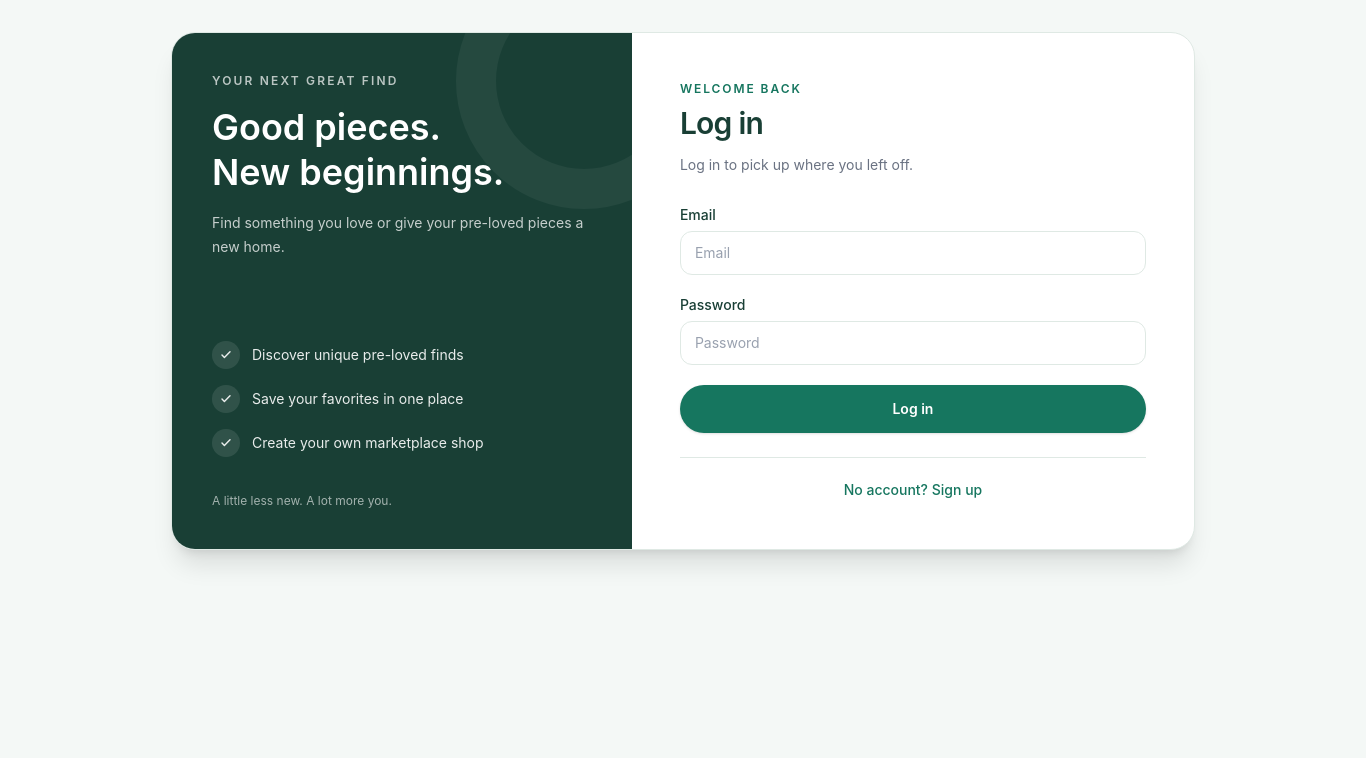
Test: frontend account and failure flows › keeps sign-up details when a username is already taken
This screenshot has width=1366, height=758.
Click the button "No account? Sign up".
click(913, 479)  # box x1=680 y1=457 x2=1146 y2=501
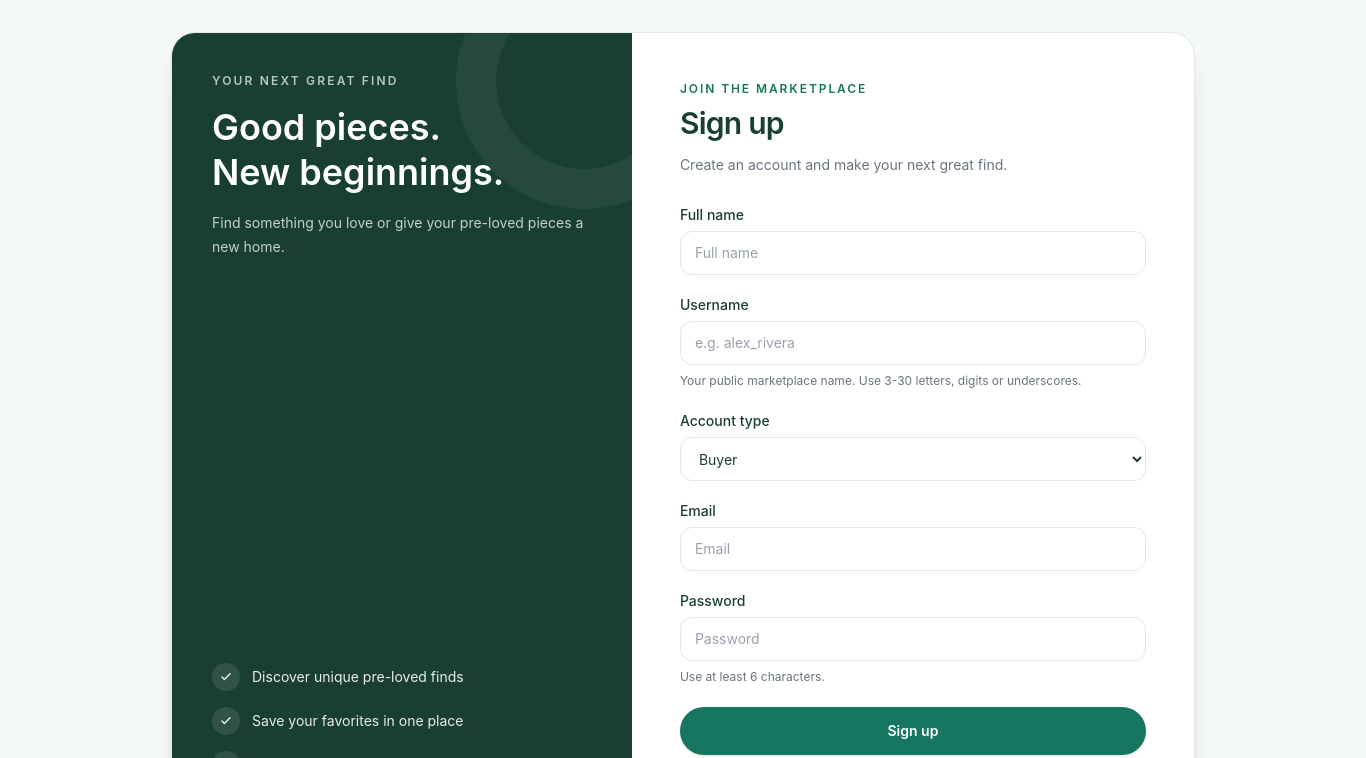
Type "Alex Rivera" into the field labelled "Full name".
click(913, 253); type("Alex Rivera")  # box x1=680 y1=231 x2=1146 y2=275
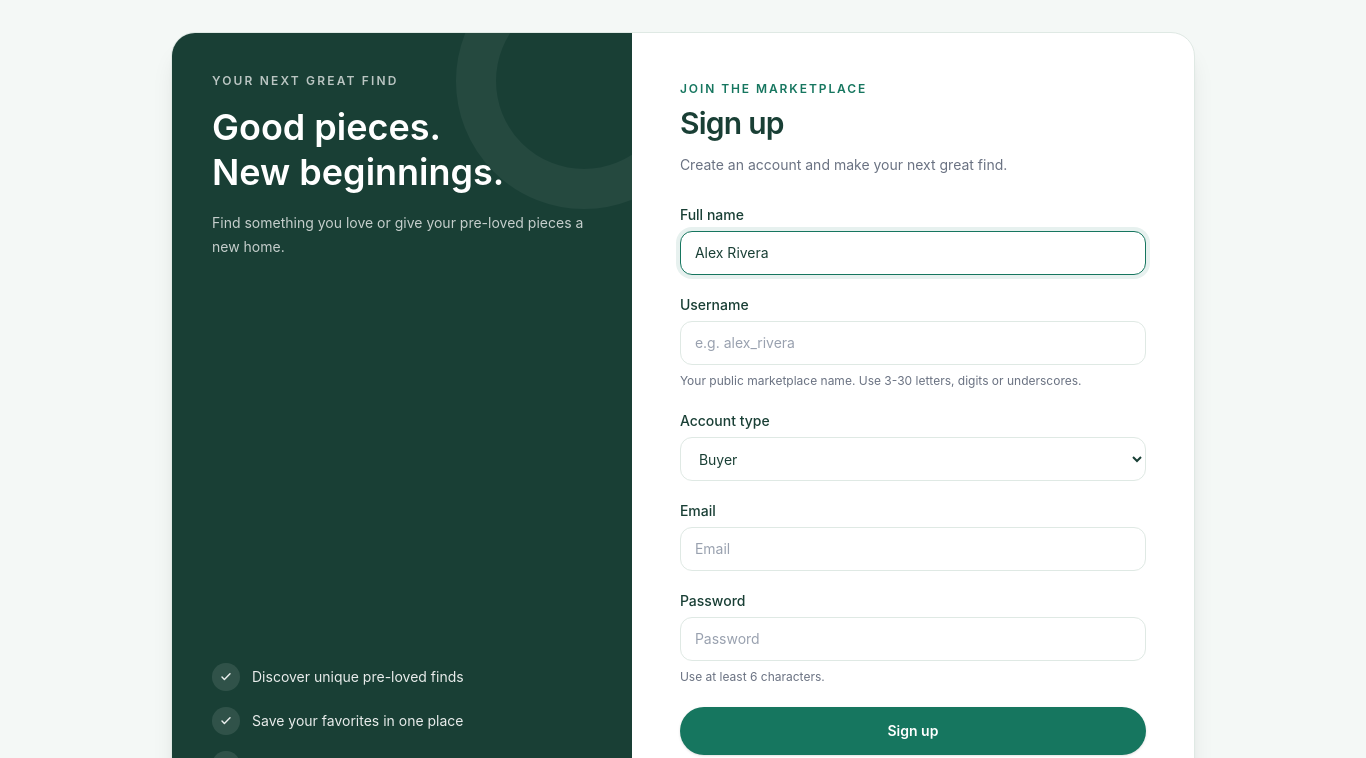
Type "taken" into the field labelled "Username".
click(913, 343); type("taken")  # box x1=680 y1=321 x2=1146 y2=365
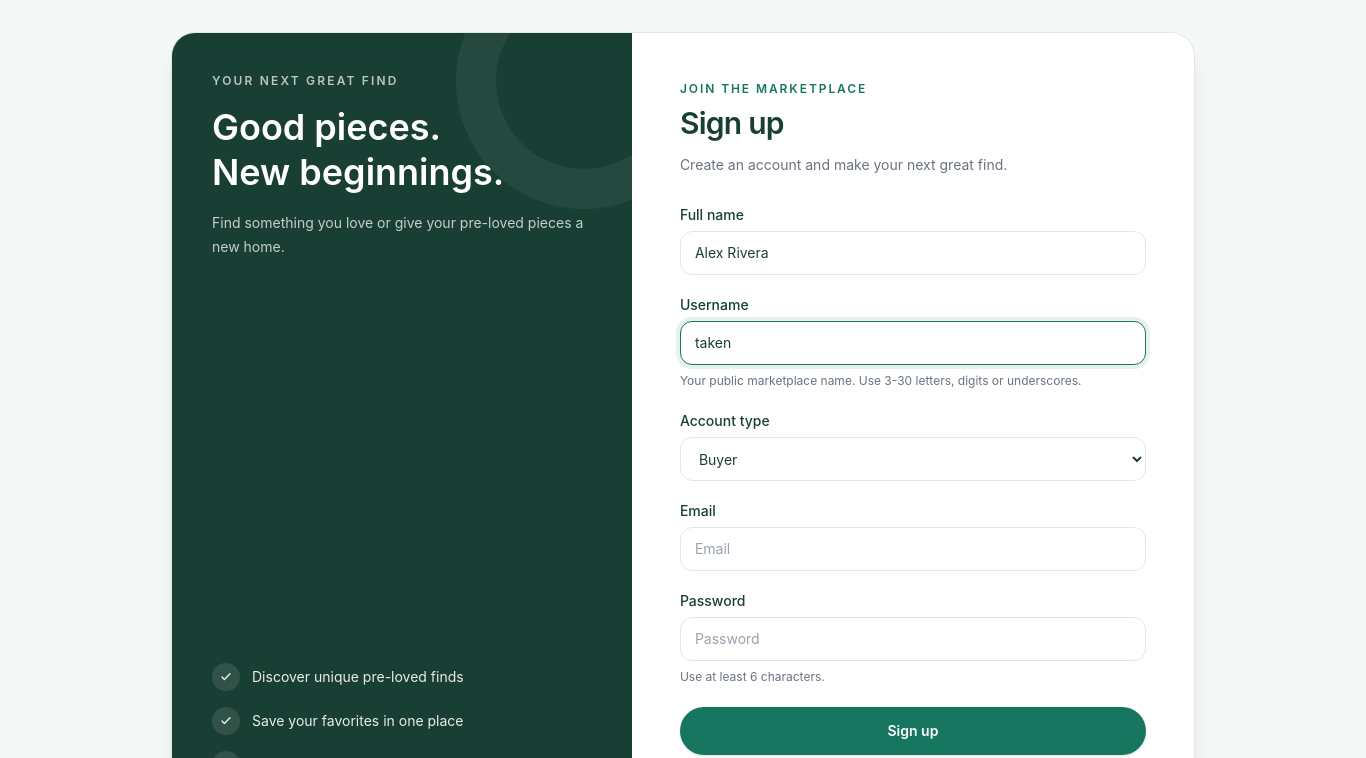
Type "alex@example.test" into the field labelled "Email".
click(913, 549); type("alex@example.test")  # box x1=680 y1=527 x2=1146 y2=571
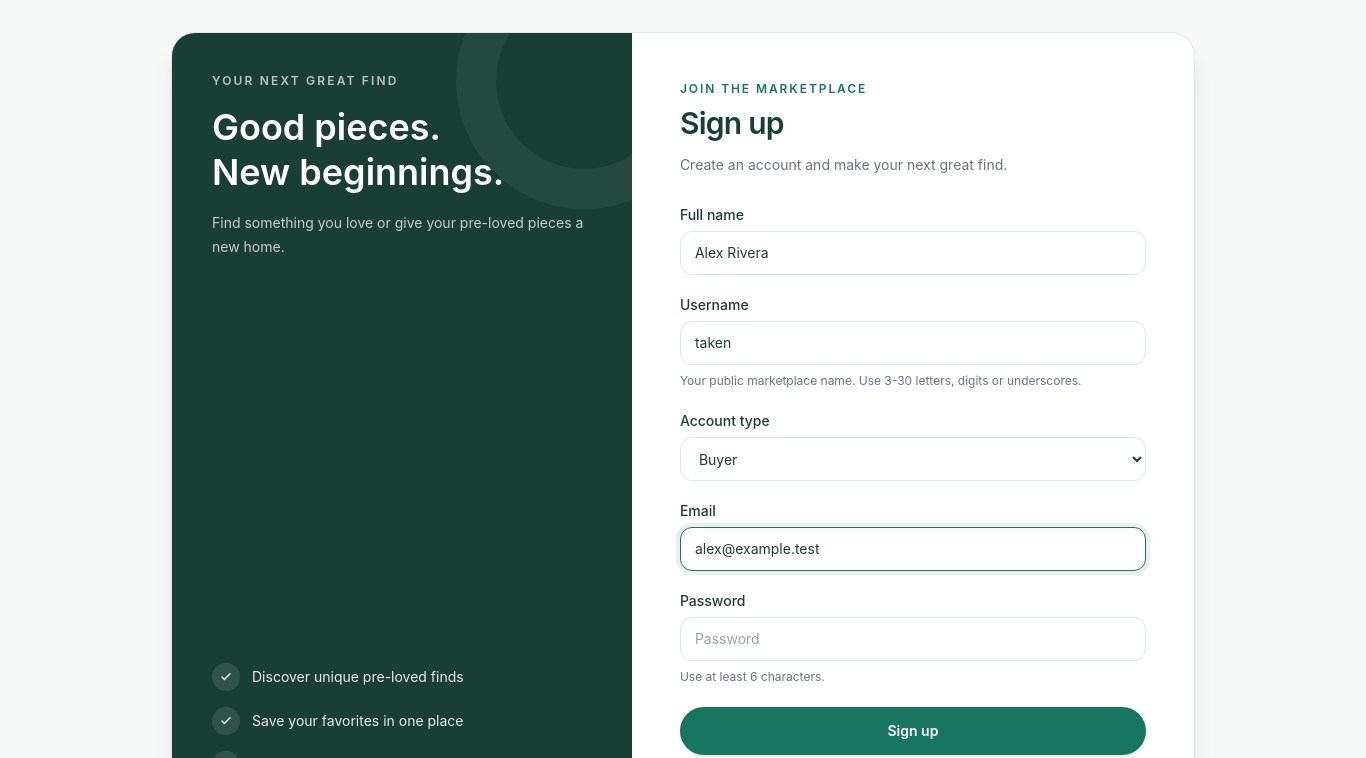
Type "password" into the password field labelled "Password".
click(913, 639); type("password")  # box x1=680 y1=617 x2=1146 y2=661
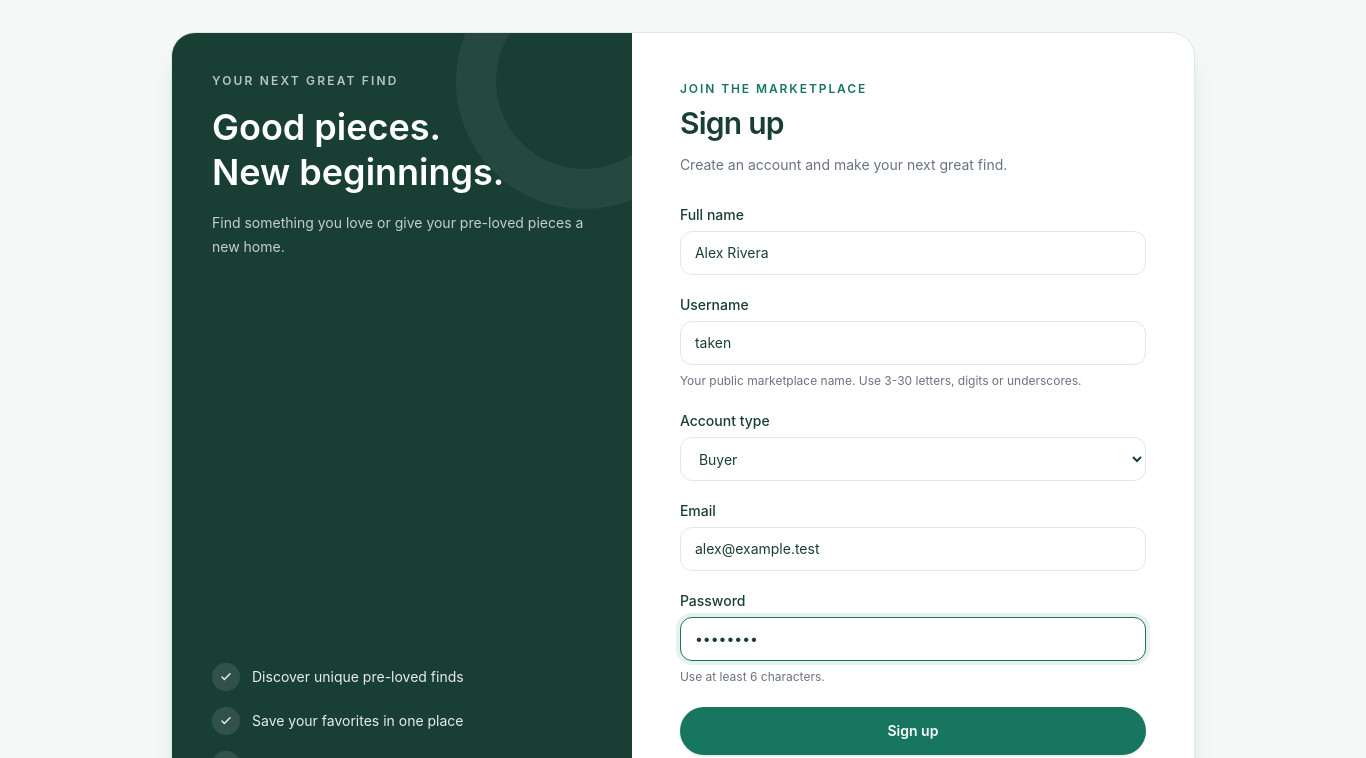
Click the button "Sign up".
click(913, 731)  # box x1=680 y1=707 x2=1146 y2=755
(page scrolled)
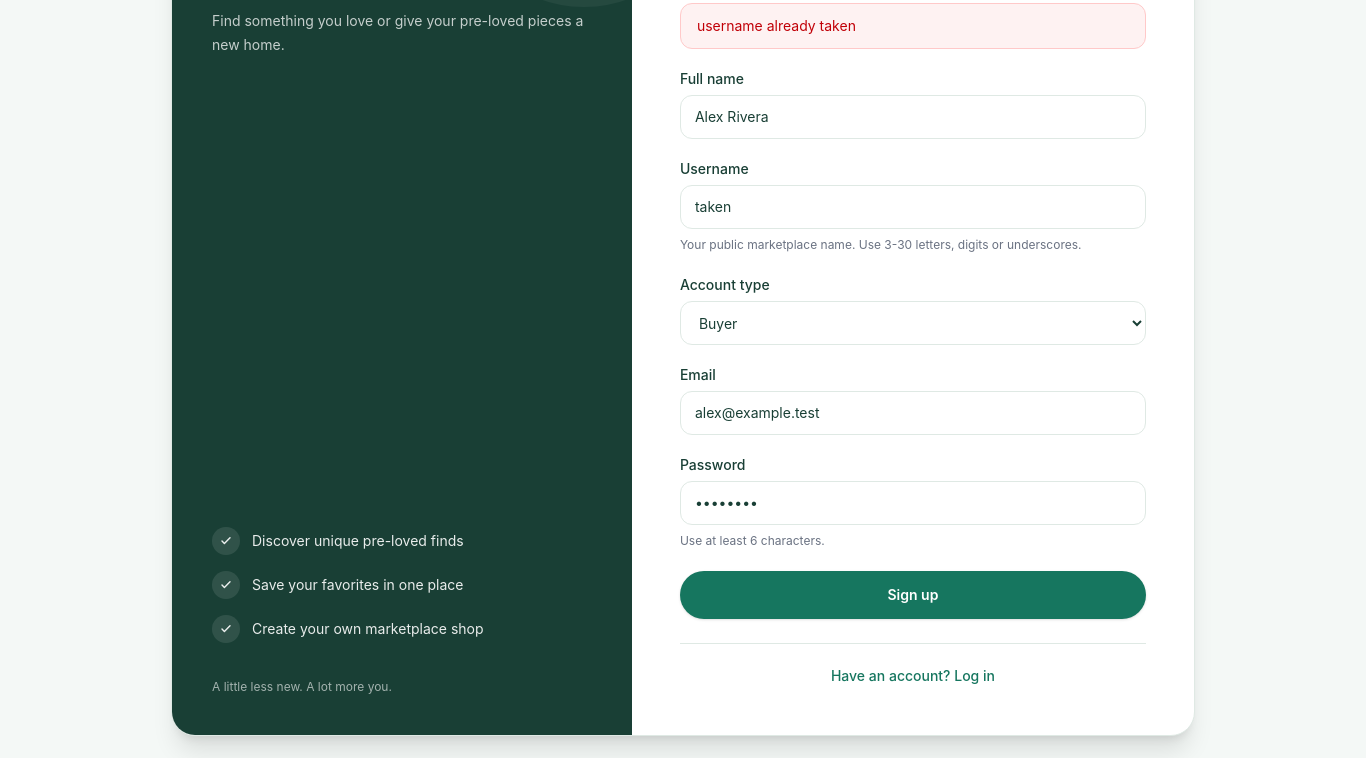
Expected: the button "Sign up" is enabled, x1=680 y1=571 x2=1146 y2=619
Expected: the message reads "username already taken", x1=697 y1=17 x2=856 y2=34
